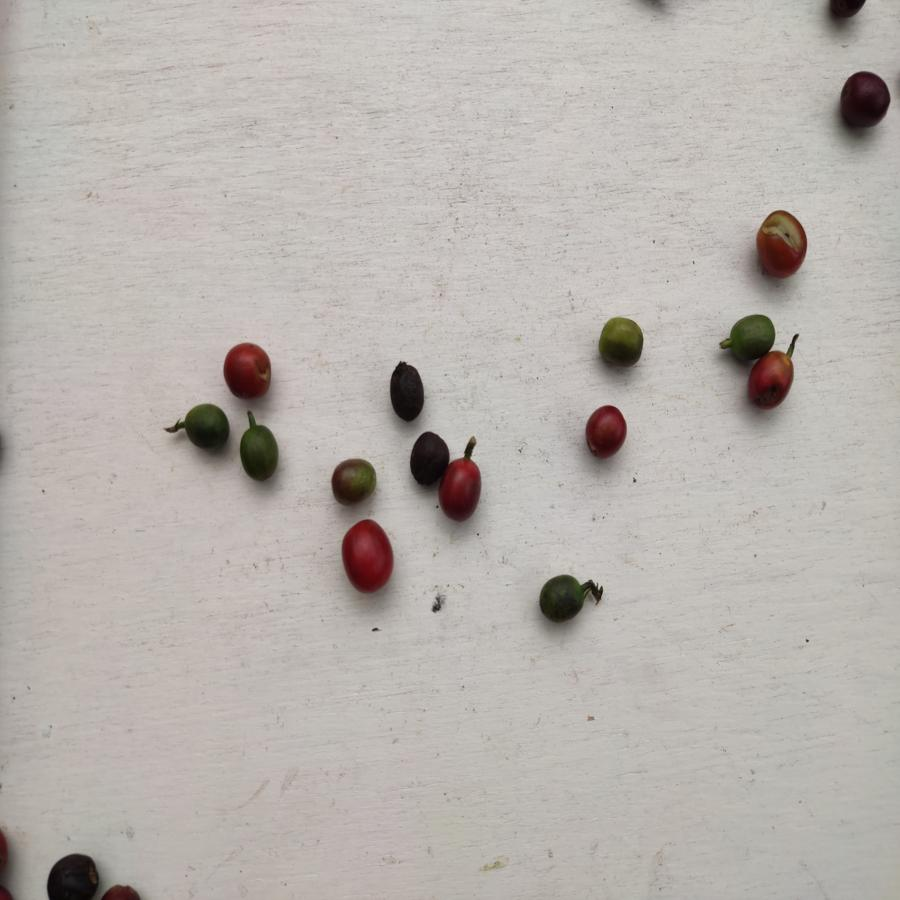Inmaduro: (533, 572, 586, 628), (178, 402, 231, 454), (238, 424, 282, 483), (727, 309, 776, 360)
Maduro: (340, 518, 396, 596), (220, 340, 275, 402), (747, 352, 798, 414), (757, 227, 810, 281), (439, 460, 485, 521), (580, 402, 629, 457)
Pinton: (597, 317, 646, 368), (331, 456, 380, 506)
Sobremaduro: (837, 66, 892, 133), (43, 852, 101, 900), (386, 363, 429, 422), (410, 431, 451, 485), (823, 1, 871, 27)
